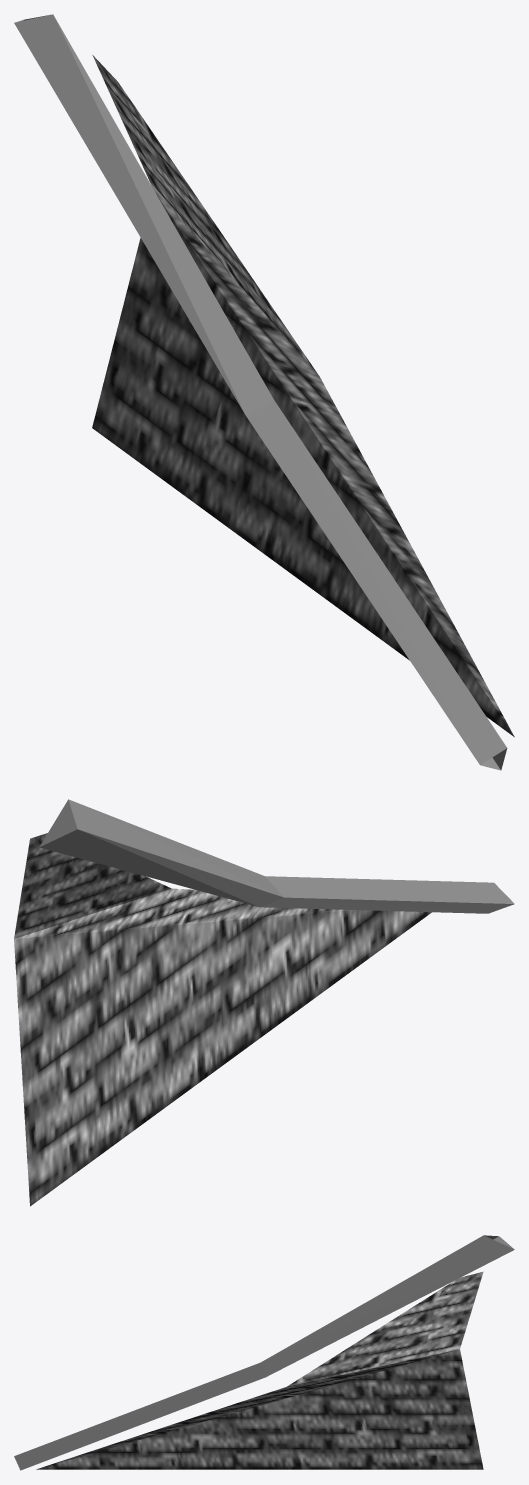
File: Dach_PultSeiteZiegelGrauDunkel_812.glb
3 renders of one model, top to bottom at view 1: azimuth 30°, elevation 25°; view 2: azimuth 150°, elevation 25°; view 3: azimuth 270°, elevation 25°, orthographic. The views are drawn at different scales.
Visible parts, largest first — view 1: pPlaneShape1, pCylinderShape9; view 2: pPlaneShape1, pCylinderShape9; view 3: pPlaneShape1, pCylinderShape9.
Part boxes in pixels (x1,y1,x2,y2): pPlaneShape1: [92, 55, 514, 737]; pCylinderShape9: [14, 14, 507, 770]; pPlaneShape1: [14, 833, 431, 1206]; pCylinderShape9: [39, 799, 514, 913]; pPlaneShape1: [36, 1271, 483, 1469]; pCylinderShape9: [14, 1235, 514, 1470].
Size of the model in its own units: 0.0749 by 0.2984 by 0.5828.
Materials: 2 (1 with a texture image).
